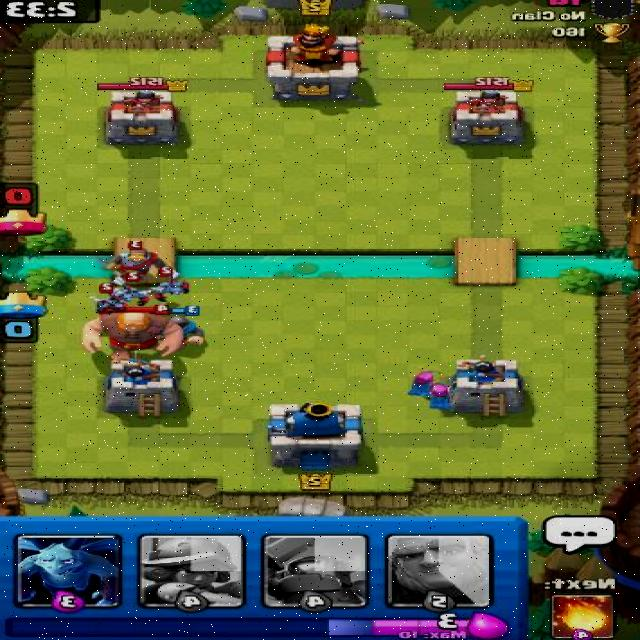Enemy-Giant: (75, 302, 187, 364)
Enemy-Knight: (95, 239, 180, 282)
Enemy-Minion: (102, 268, 154, 307), (86, 281, 133, 318), (148, 265, 194, 300)
Player-Archer: (397, 368, 446, 400), (419, 378, 460, 410)
Player-Knight: (140, 305, 207, 350)
